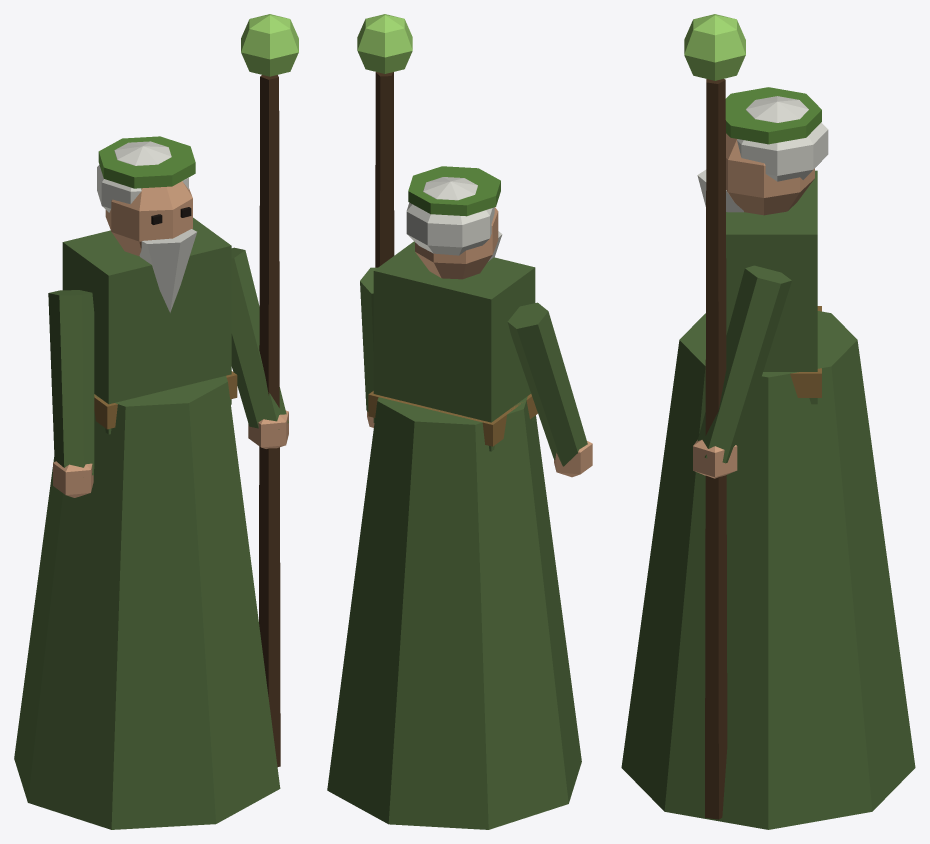
File: druide.glb
3 renders of one model, left to right at view 1: azimuth 30°, elevation 25°; view 2: azimuth 150°, elevation 25°; view 3: azimuth 270°, elevation 25°, orthographic. The views are drawn at different scales.
Bounding box in the file's own units: 0.68 × 1.99 × 0.66.
1 material, 1 textured.
